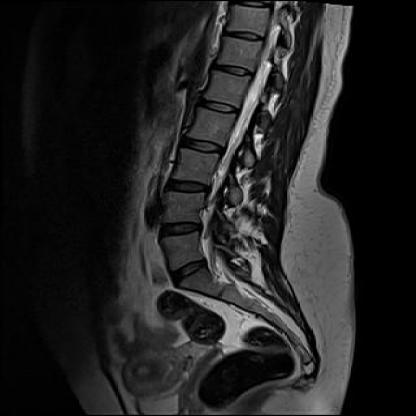Degenerative Disc Diseaserotation: (155, 219, 206, 243)
